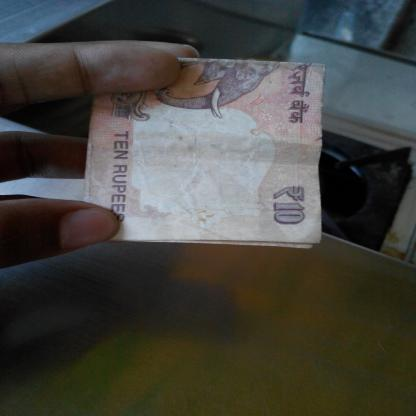Old10Back: (81, 57, 327, 250)
